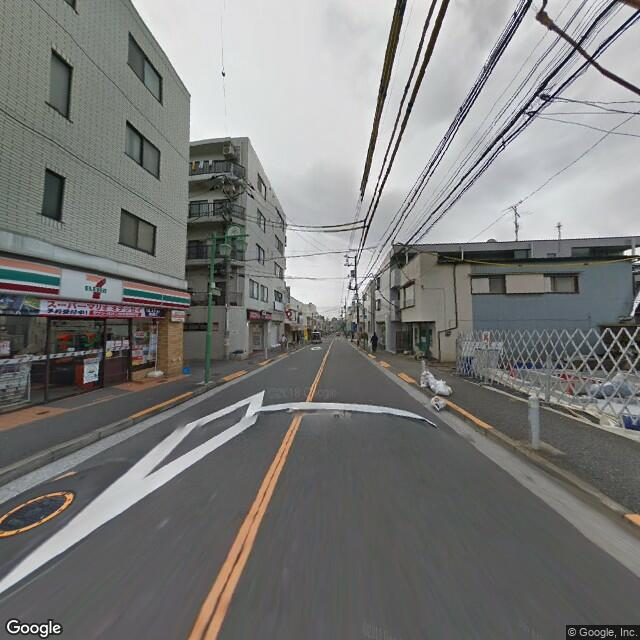7-eleven: (1, 253, 197, 310)
